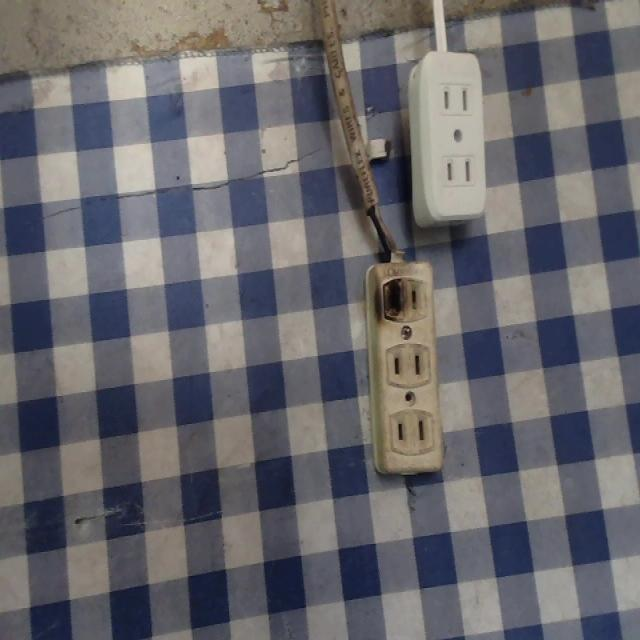-: (371, 271, 404, 328)
